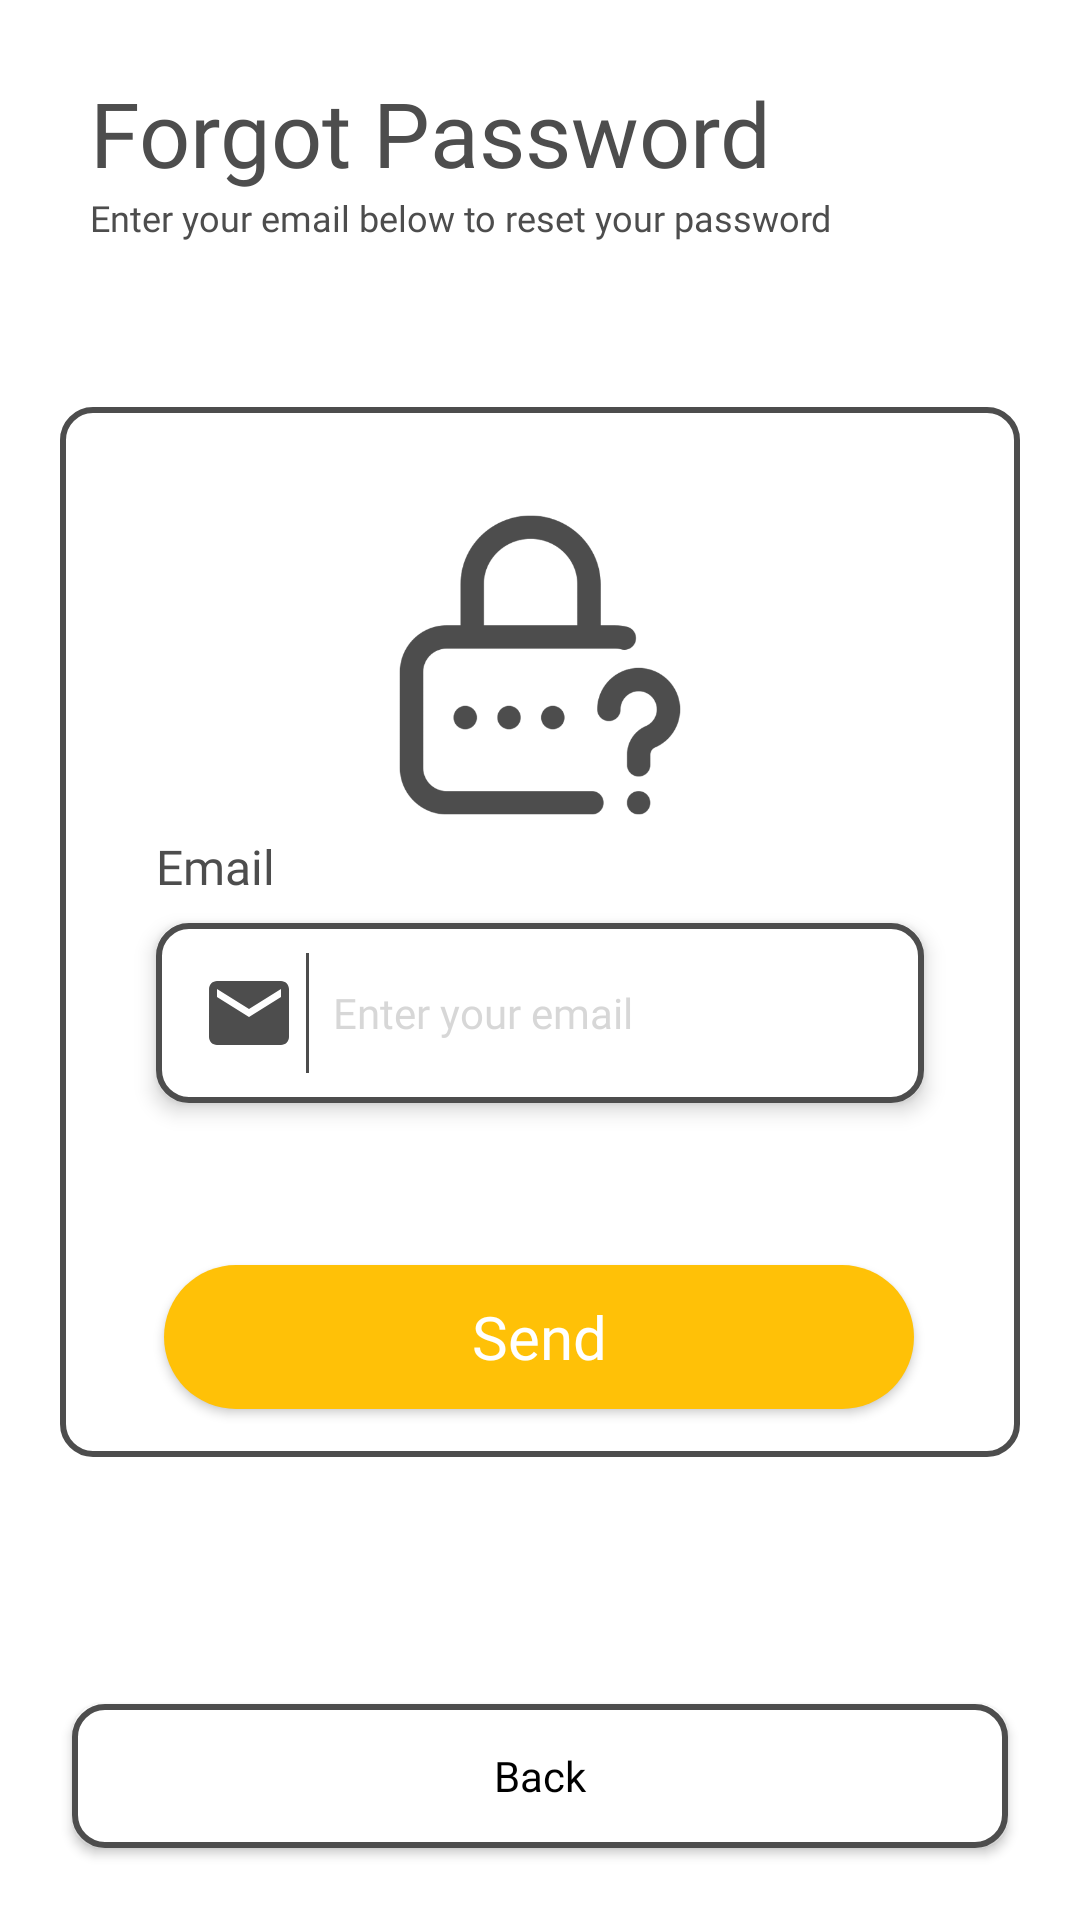

Screen size 1080w x 1920h. Icon name, then its box in pixels as bbox=(x1, y1, x2, y2):
forgot: bbox=(399, 515, 681, 815)
